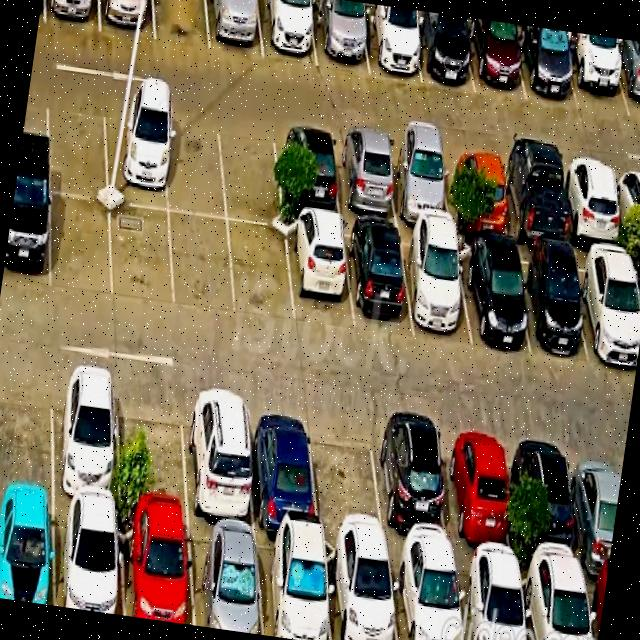empty: (310, 407, 386, 547), (118, 376, 189, 520), (0, 360, 53, 497), (218, 118, 283, 228), (169, 213, 235, 315), (111, 204, 174, 309), (228, 223, 294, 323), (165, 110, 226, 218), (47, 92, 108, 199), (52, 194, 112, 297), (154, 0, 210, 50)
occupied: (371, 415, 453, 556), (440, 422, 515, 565), (184, 387, 255, 529), (247, 396, 319, 535), (515, 431, 583, 572), (53, 366, 120, 509), (187, 522, 264, 635), (456, 240, 530, 354), (120, 512, 194, 625), (511, 247, 587, 357), (400, 230, 472, 346), (256, 532, 331, 640), (572, 250, 640, 366), (344, 222, 414, 334), (286, 215, 354, 330), (55, 502, 123, 616), (325, 540, 398, 640), (570, 439, 623, 574), (104, 101, 168, 210), (389, 552, 464, 640), (499, 154, 569, 247), (274, 126, 341, 217), (443, 147, 510, 237), (333, 132, 399, 222), (0, 496, 54, 606), (455, 558, 527, 640), (386, 139, 452, 227), (562, 31, 629, 117), (560, 161, 624, 249), (520, 566, 592, 640), (516, 24, 578, 109), (2, 183, 50, 290), (412, 12, 475, 92), (466, 17, 526, 100), (360, 4, 422, 83), (312, 0, 369, 72), (257, 0, 318, 66), (207, 0, 263, 59), (610, 38, 640, 118), (613, 166, 640, 249), (99, 0, 155, 40), (45, 0, 100, 32)
